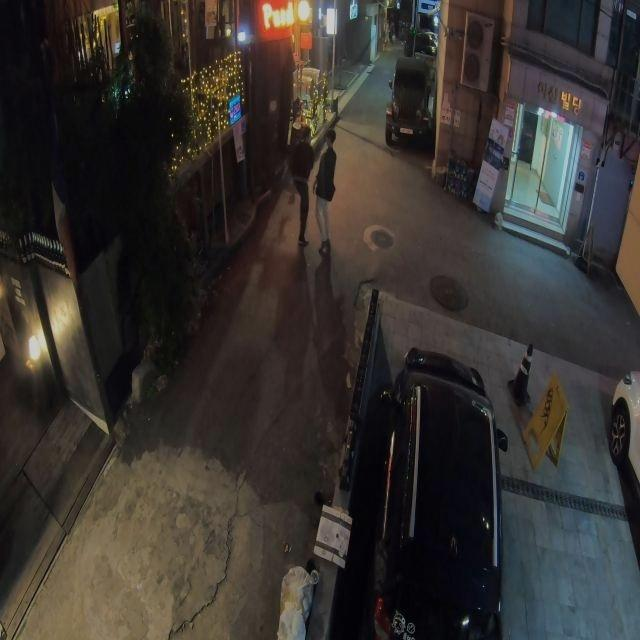fight: (284, 120, 340, 248)
